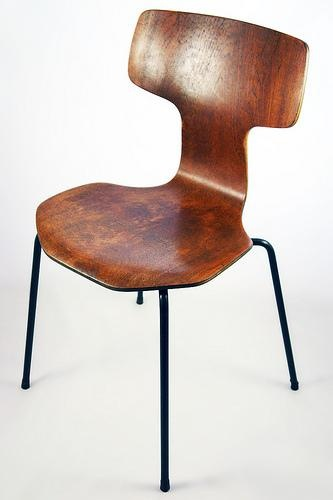obstacle: (21, 10, 306, 491)
